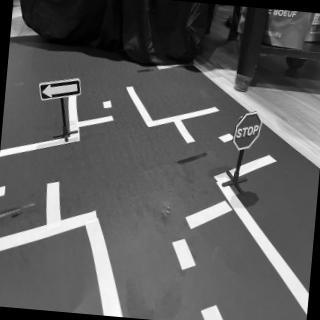sign_oneway_left: (39, 75, 84, 106)
sign_stop: (233, 111, 264, 153)
